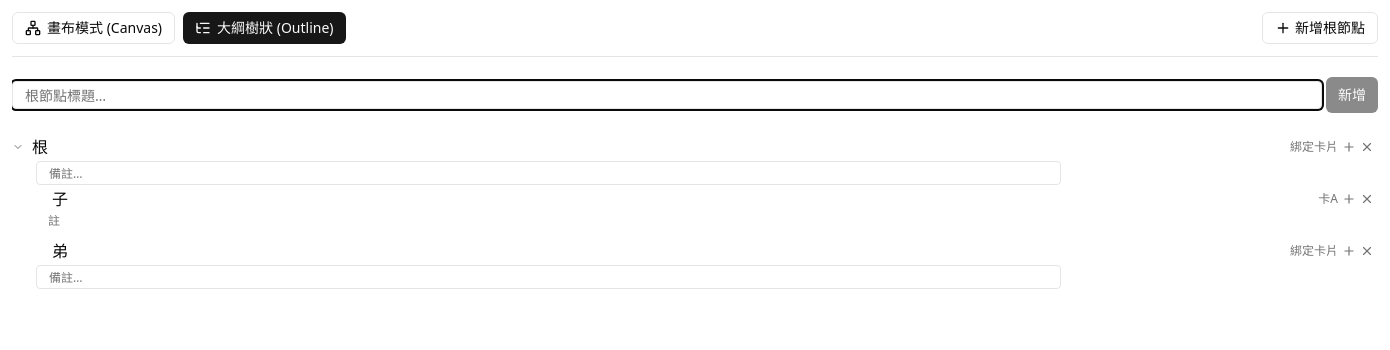
Scenario: MindMapTab 樹渲染與 CRUD › 取消不送出新增：blur-commit 不與取消按鈕競逐
The width and height of the screenshot is (1390, 350).
Click the 1st button named "新增子節點".
click(1349, 147)  # box 1342,140 -> 1356,154
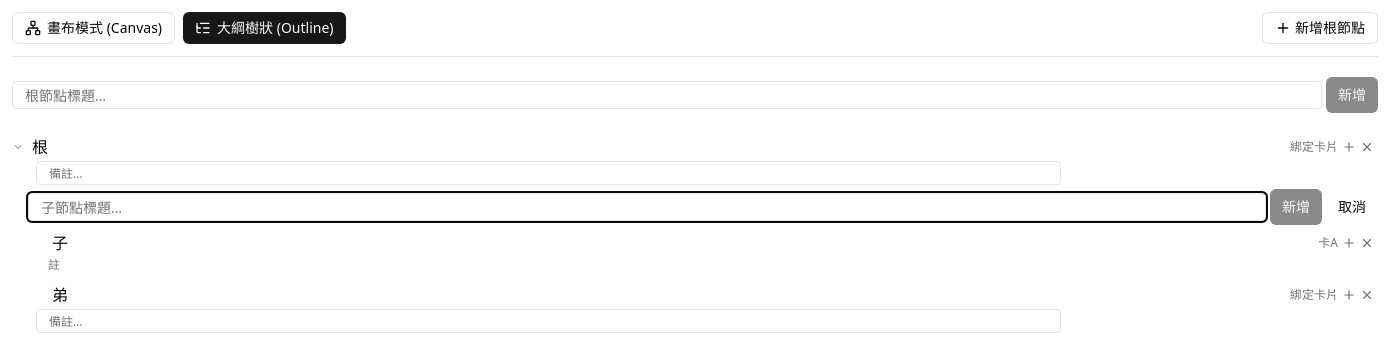
Type "新節點" into the field with placeholder "子節點標題…".
click(647, 207); type("新節點")  # box 28,193 -> 1266,221
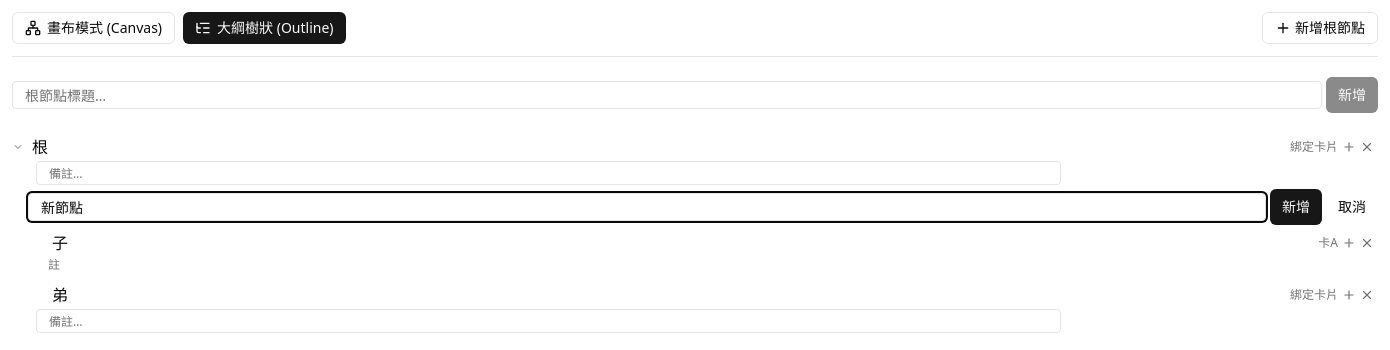
Press the mouse on the button "取消" at (1352, 207), box 1326,189 -> 1378,225
Click the button "取消".
click(1352, 207)  # box 1326,189 -> 1378,225
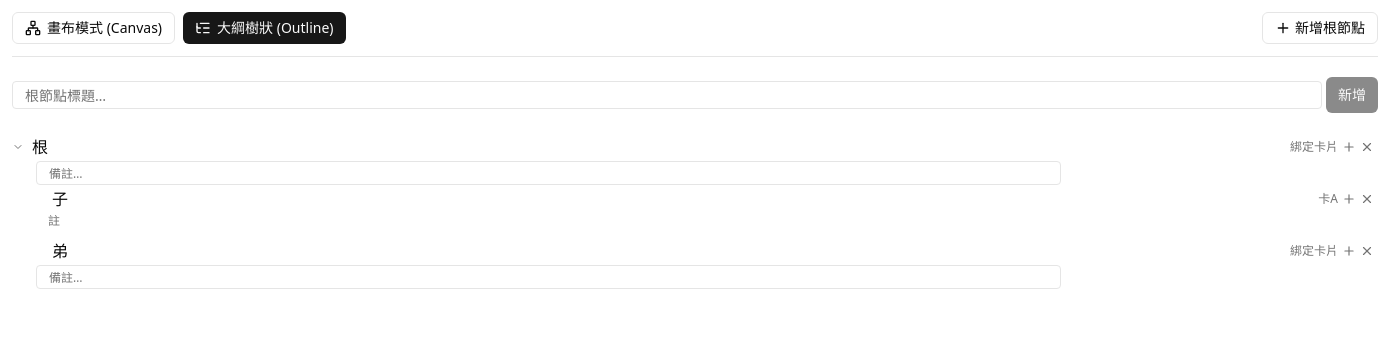
Expected: the field with placeholder "子節點標題…" is gone
